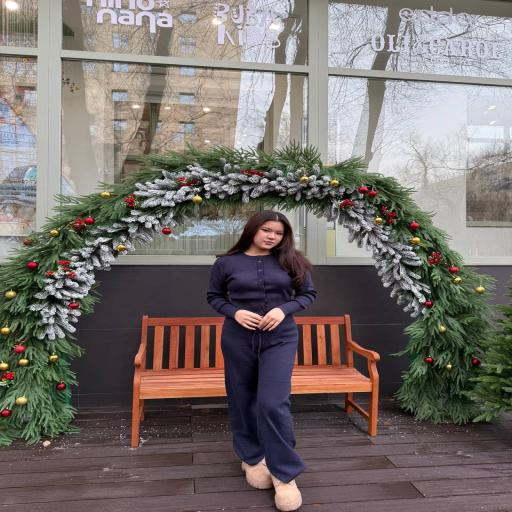crosswalk: (206, 210, 316, 511)
trash_bin: (131, 315, 380, 447)
